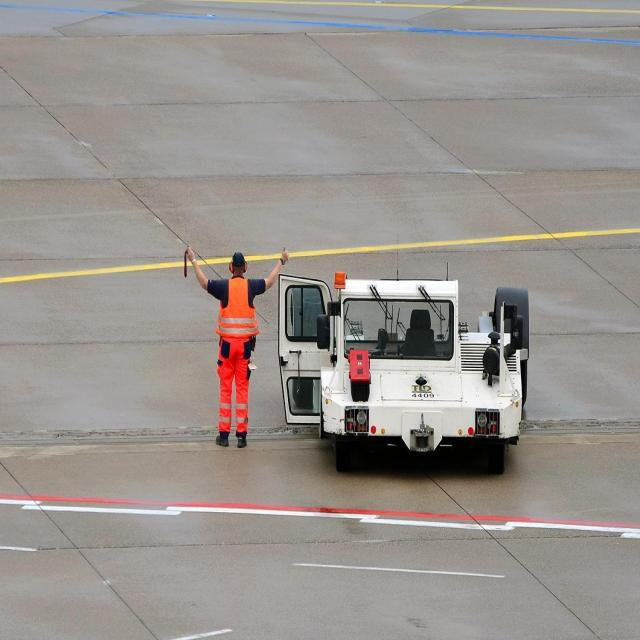Vest: (214, 277, 260, 343)
